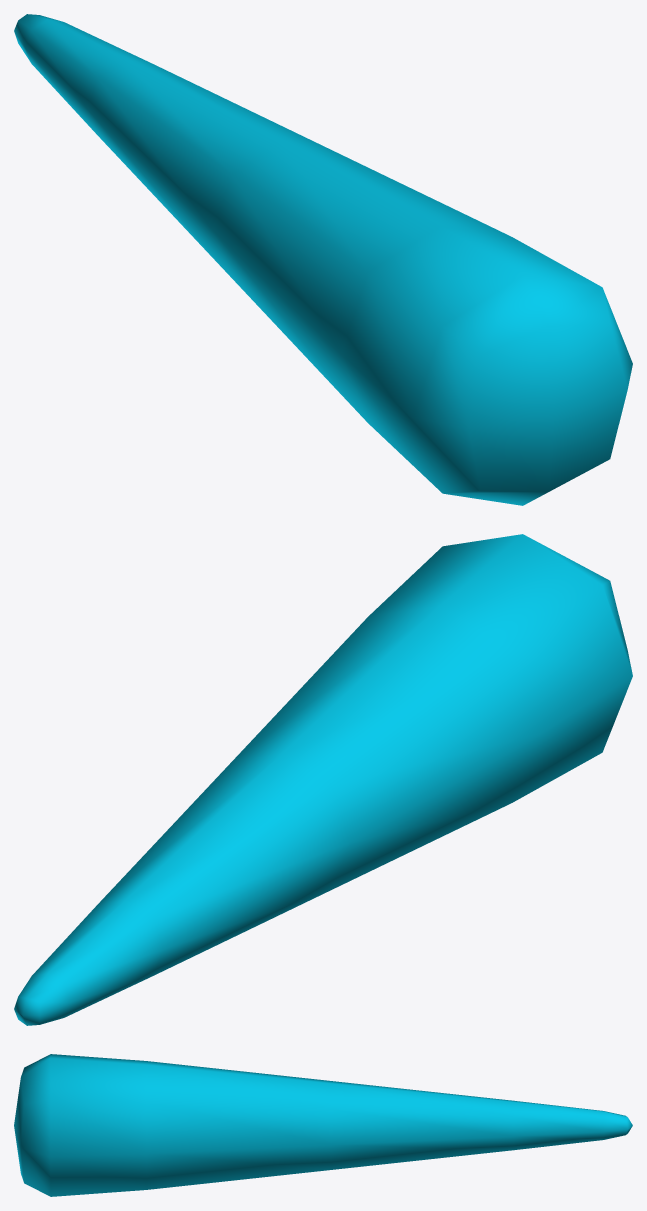
Rendered from Projectile.fbx.
3 views of the same model, one above another, from view 1: azimuth 30°, elevation 25°; view 2: azimuth 150°, elevation 25°; view 3: azimuth 270°, elevation 25° (orthographic). The views are drawn at different scales.
Parts seen in each view (by area): view 1: Cube; view 2: Cube; view 3: Cube.
Part boxes in pixels (x1,y1,x2,y2): Cube: [14, 14, 632, 505]; Cube: [14, 534, 632, 1025]; Cube: [14, 1054, 632, 1196].
Size of the model in its own units: 48.61 by 48.61 by 203.
